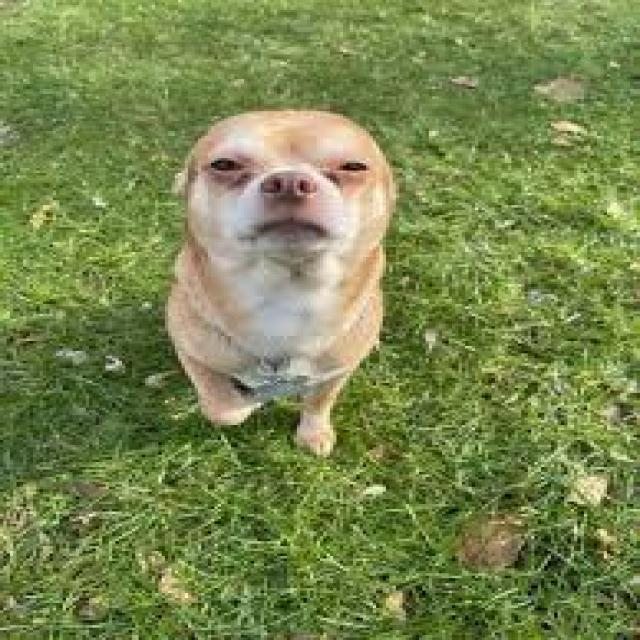Chihuahua: (170, 110, 401, 461)
